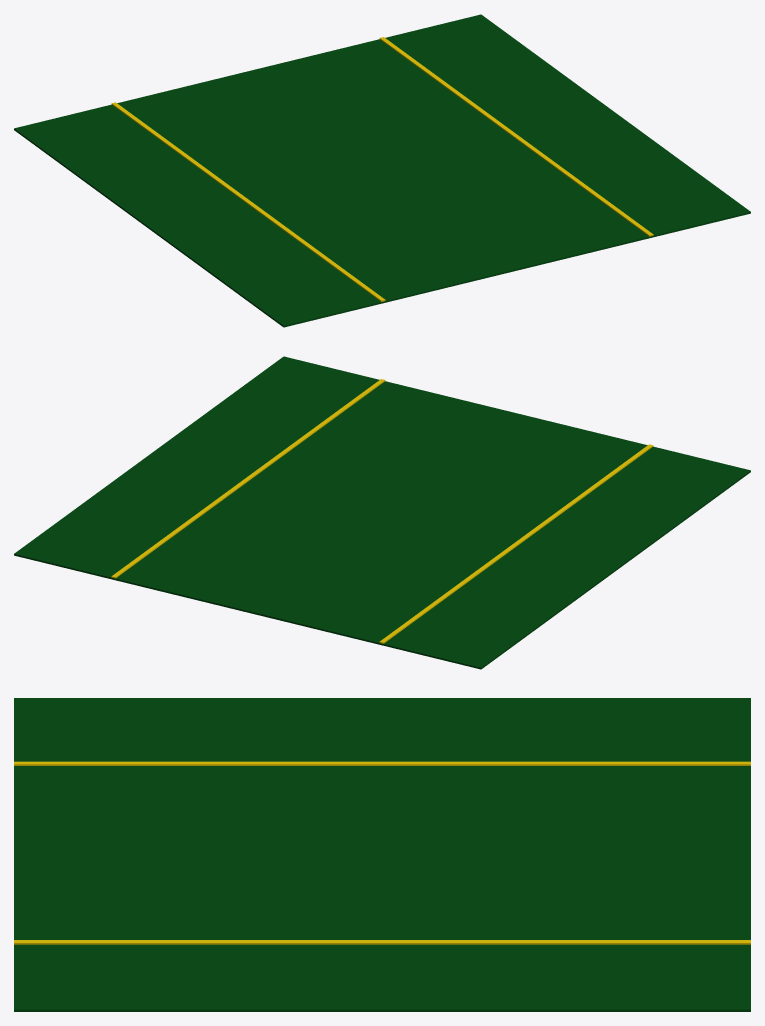
File: join1_tile.glb
The picture shows the model from 3 angles, top to bottom: view 1: azimuth 30°, elevation 25°; view 2: azimuth 150°, elevation 25°; view 3: azimuth 270°, elevation 25°; orthographic projection. The views are drawn at different scales.
Parts seen in each view (by area): view 1: Plane.001; view 2: Plane.001; view 3: Plane.001.
Boxes of the visible parts, x1,y1,x2,y2 form: Plane.001: (14,14,750,327); Plane.001: (14,356,750,669); Plane.001: (14,698,750,1011).
Bounding box in the file's own units: 115 × 0.6979 × 116.
